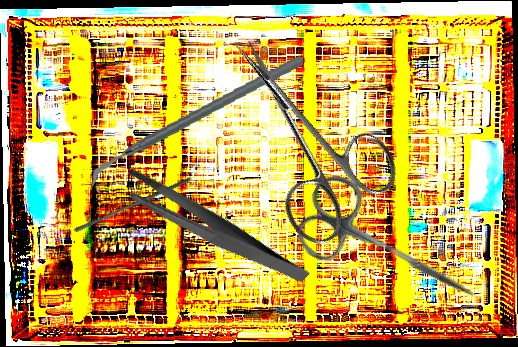Chopper: (78, 54, 313, 189)
Dressing Forceps: (116, 133, 311, 325)
Iris Scissors: (189, 8, 412, 254), (286, 167, 498, 332)
Pusher: (73, 172, 193, 237)
